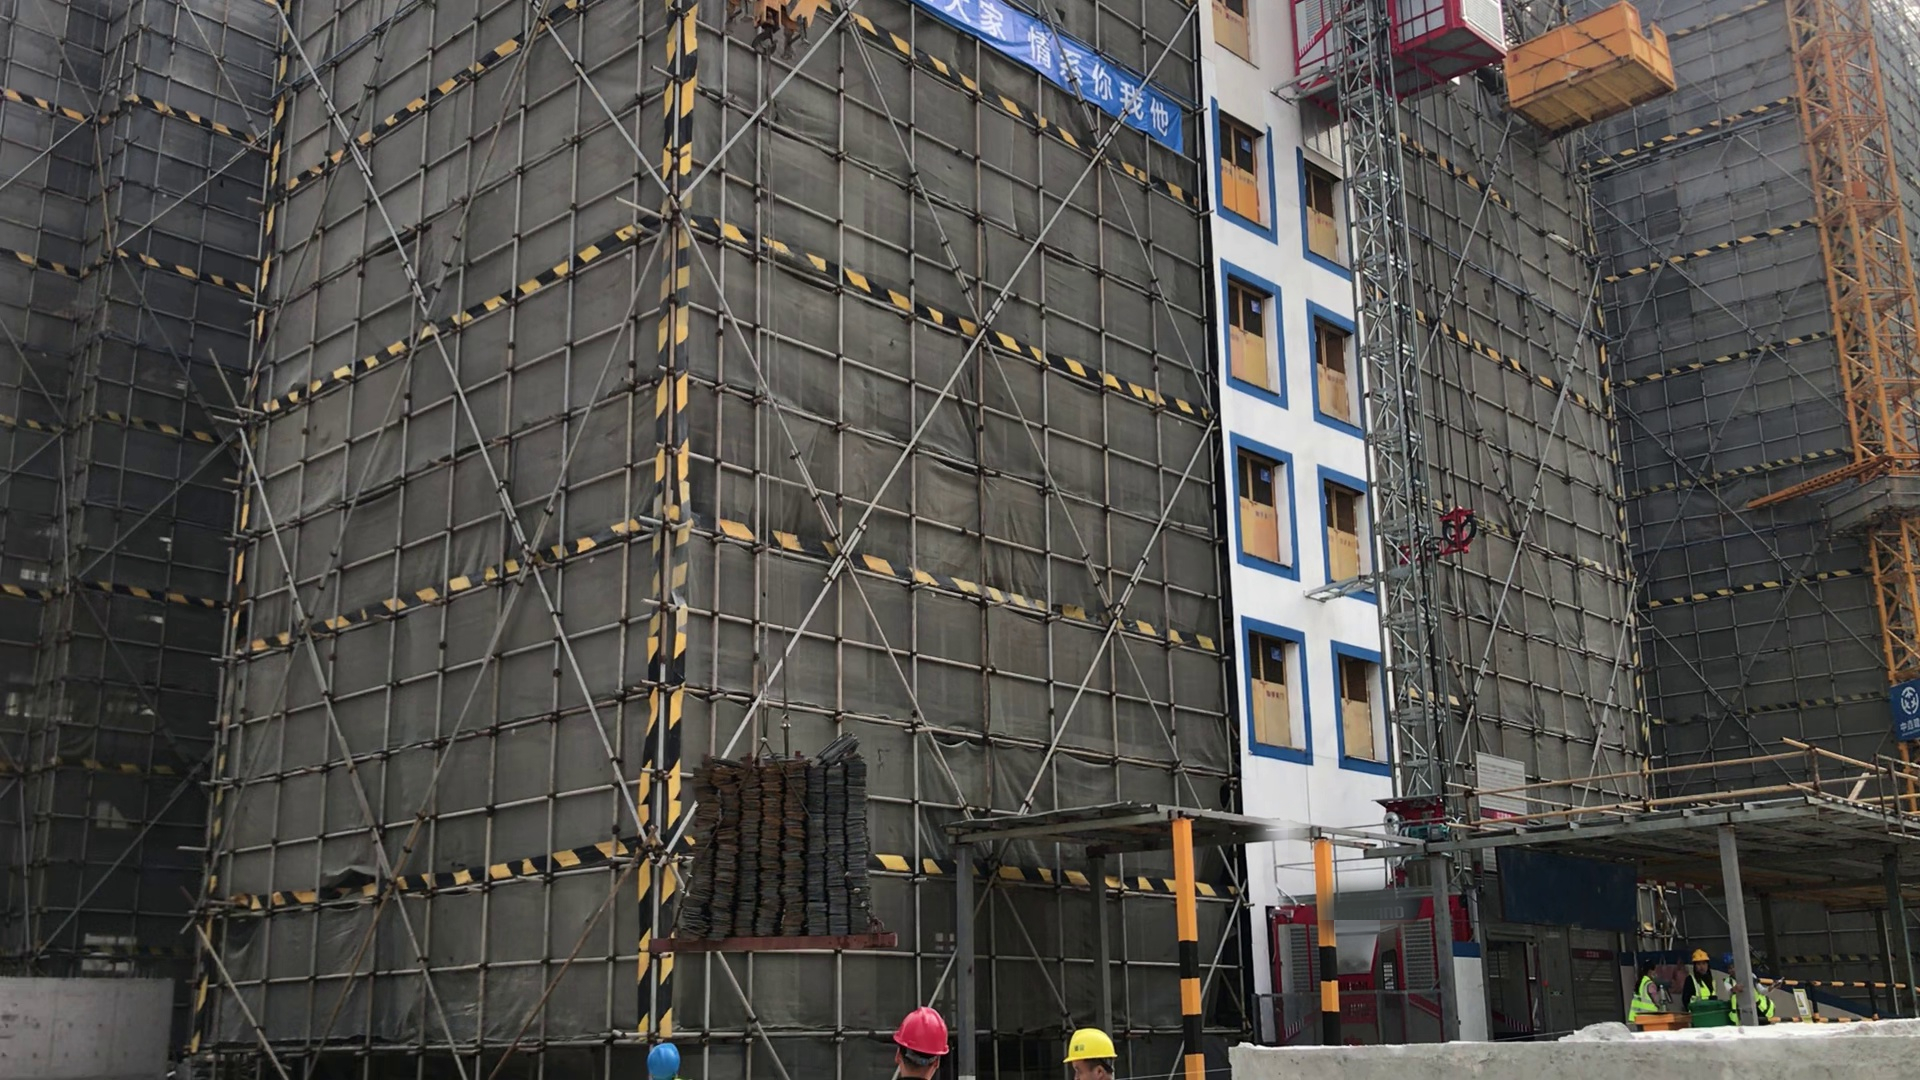helmet: (894, 1005, 954, 1064), (1056, 1022, 1126, 1068), (631, 1032, 687, 1080), (1691, 946, 1711, 964), (1723, 952, 1739, 967)
hook: (715, 1, 835, 49)
person: (881, 1002, 961, 1080), (1724, 954, 1784, 1027), (1053, 1019, 1124, 1080), (1633, 954, 1673, 1025), (1684, 940, 1723, 1012)
slogan: (957, 1, 1184, 144)
vest: (1629, 974, 1672, 1022), (1727, 976, 1774, 1019), (1689, 970, 1718, 1005)
